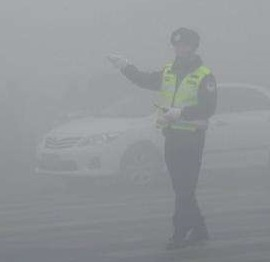person: (106, 26, 222, 250)
